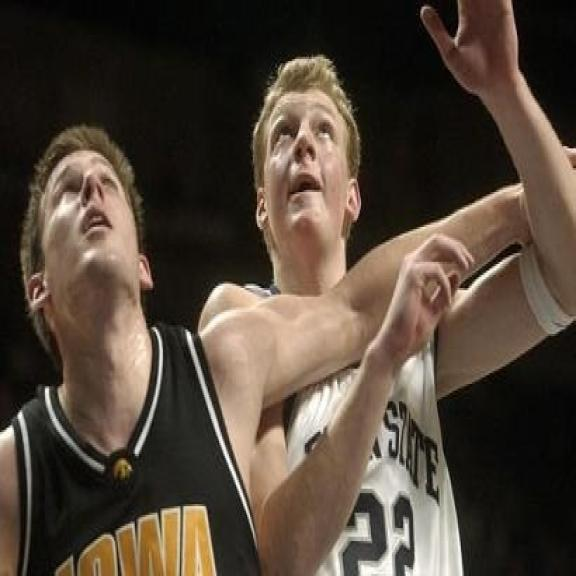face: (21, 138, 156, 336), (251, 65, 363, 257)
